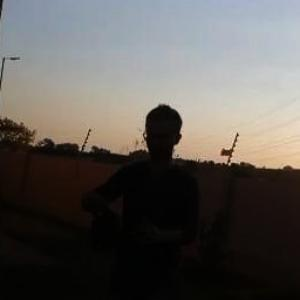follow: (75, 95, 206, 299)
